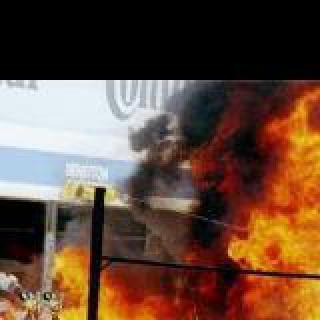fire: (99, 78, 249, 320), (224, 94, 320, 320), (38, 234, 222, 320)
